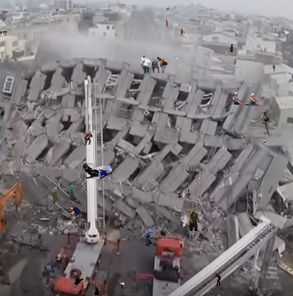Human: (140, 55, 168, 73), (51, 183, 75, 204), (260, 109, 279, 135), (73, 276, 99, 295), (232, 92, 264, 107), (83, 163, 112, 179), (188, 206, 200, 231), (69, 205, 82, 219), (145, 229, 153, 246), (84, 131, 93, 146), (212, 273, 222, 286), (178, 189, 192, 198), (256, 140, 266, 147), (230, 44, 238, 52), (120, 235, 129, 242), (145, 281, 150, 293), (118, 282, 125, 290), (161, 247, 174, 251), (180, 28, 185, 37), (175, 56, 181, 61), (56, 257, 60, 264), (0, 31, 7, 35), (234, 59, 237, 68), (166, 19, 169, 28), (272, 64, 275, 72), (166, 7, 170, 12), (74, 110, 78, 115), (268, 229, 270, 234), (141, 290, 143, 295), (23, 160, 25, 165), (121, 126, 123, 129), (199, 177, 200, 181), (135, 93, 137, 95)
